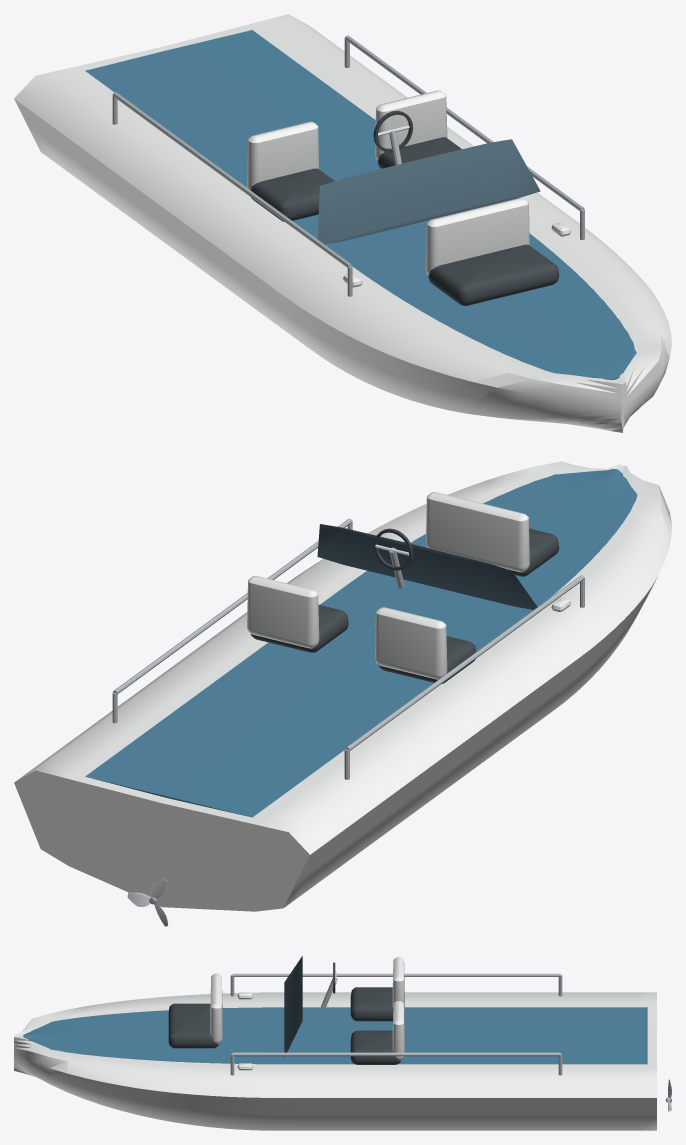
Rendered from powerboat-racing-and-launch-ramp-bowrider-501c3687__22254.glb.
3 views of the same model, one above another, from view 1: azimuth 30°, elevation 25°; view 2: azimuth 150°, elevation 25°; view 3: azimuth 270°, elevation 25° (orthographic). The views are drawn at different scales.
Parts seen in each view (by area): view 1: bowrider; view 2: bowrider, propeller; view 3: bowrider.
Part boxes in pixels (x1,y1,x2,y2): bowrider: (14, 14, 671, 432); bowrider: (14, 461, 671, 911); propeller: (127, 878, 168, 926); bowrider: (14, 956, 656, 1130).
Size of the model in its own units: 2.34 by 1.65 by 6.45.
